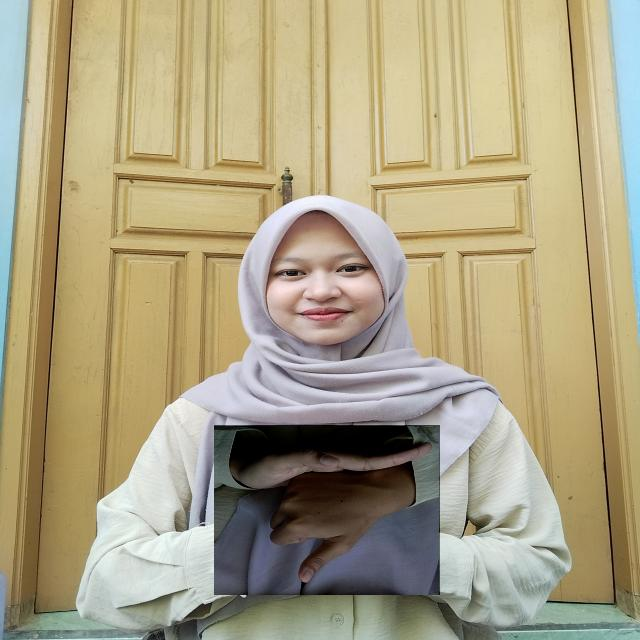cantik: (214, 425, 440, 595)
